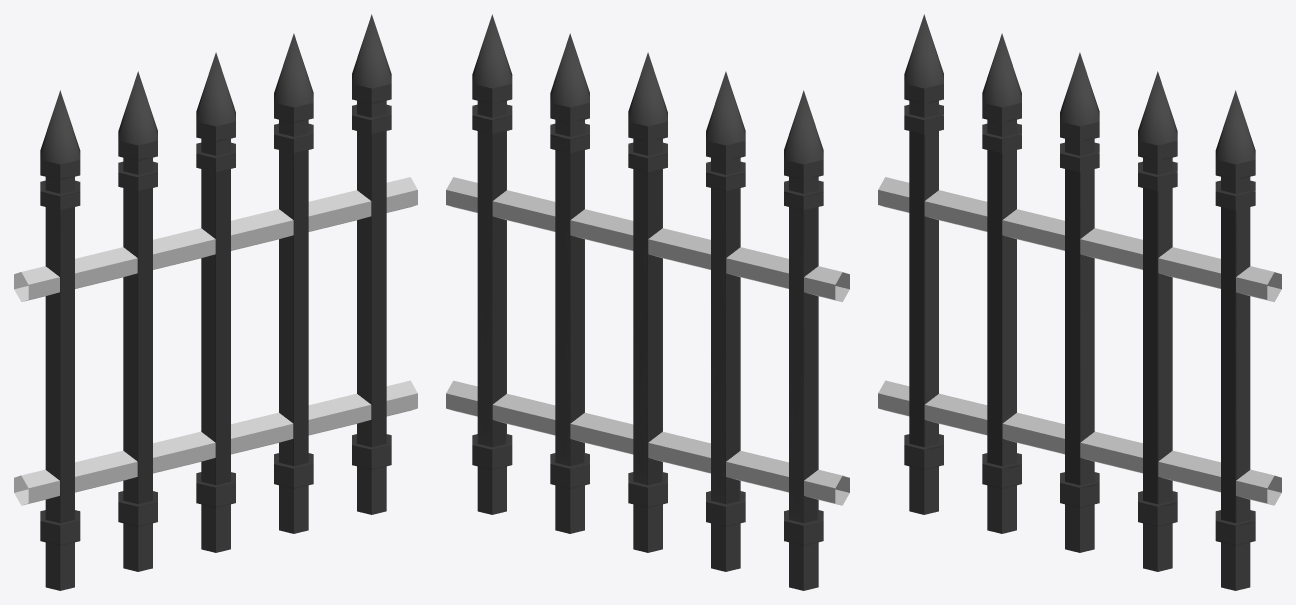
The model's file is Fence_Black.fbx.
3 renders of one model, left to right at view 1: azimuth 30°, elevation 25°; view 2: azimuth 150°, elevation 25°; view 3: azimuth 330°, elevation 25°, orthographic.
Parts seen in each view (by area): view 1: polySurface39; view 2: polySurface39; view 3: polySurface39.
Boxes of the visible parts, <box> form: polySurface39: <box>14,14,417,590</box>; polySurface39: <box>446,14,849,590</box>; polySurface39: <box>878,14,1281,590</box>.
Bounding box in the file's own units: 100 × 121 × 8.83.
